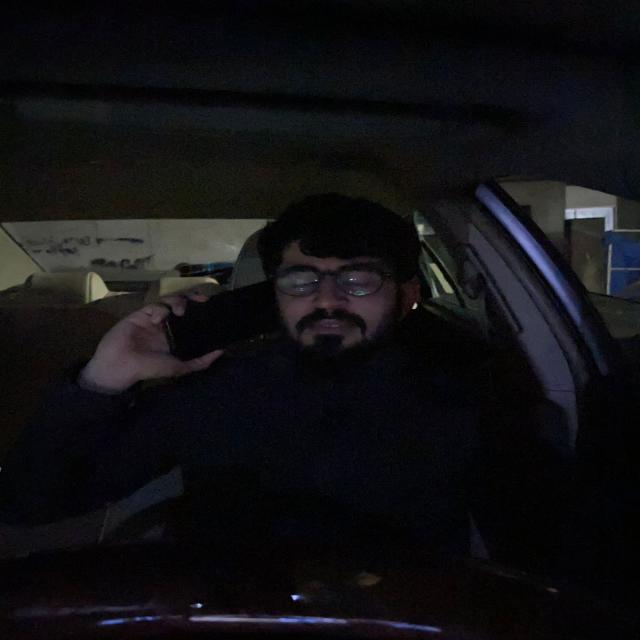phone: (158, 278, 278, 361)
